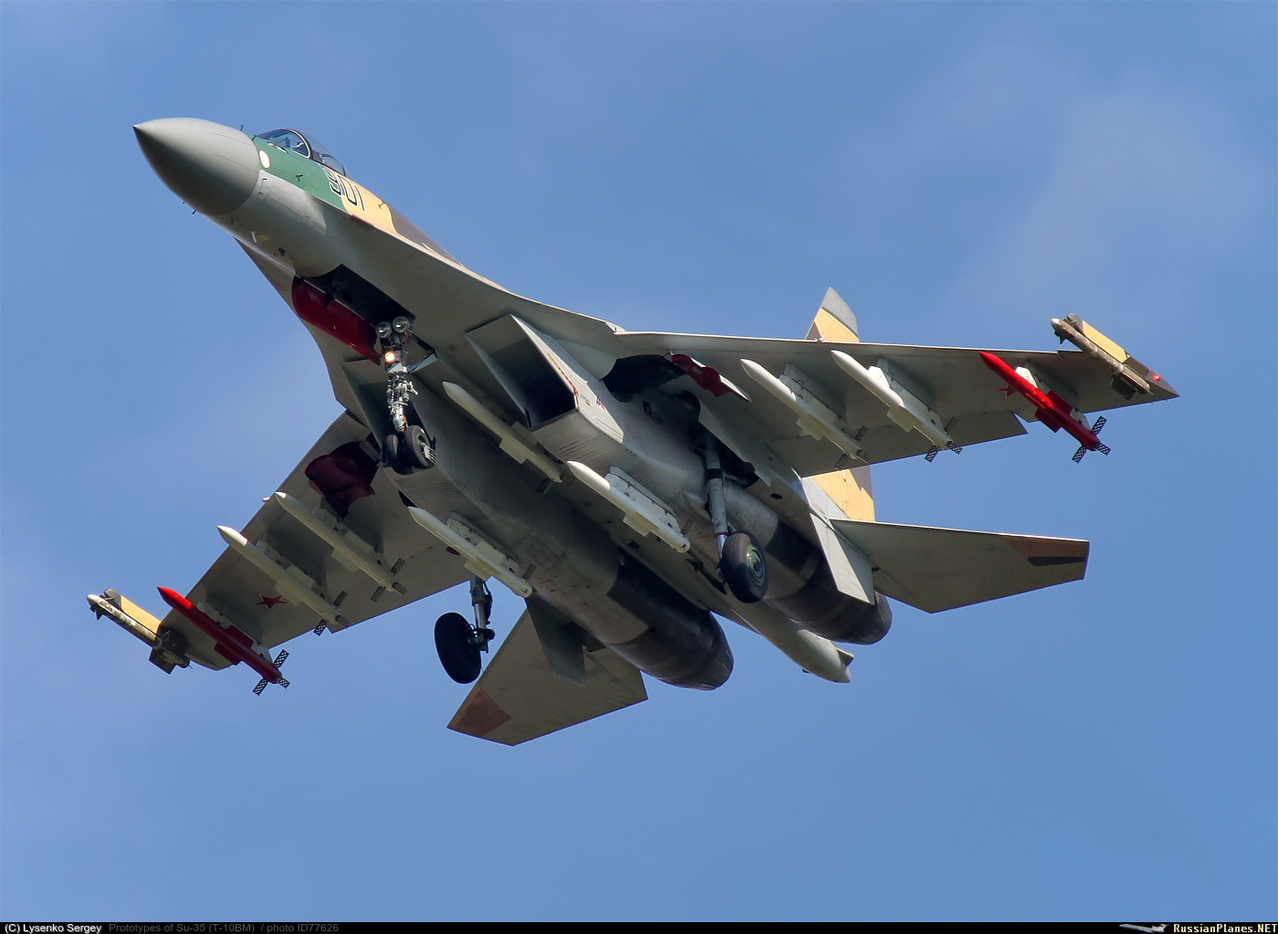Su35: (73, 99, 1187, 752)
